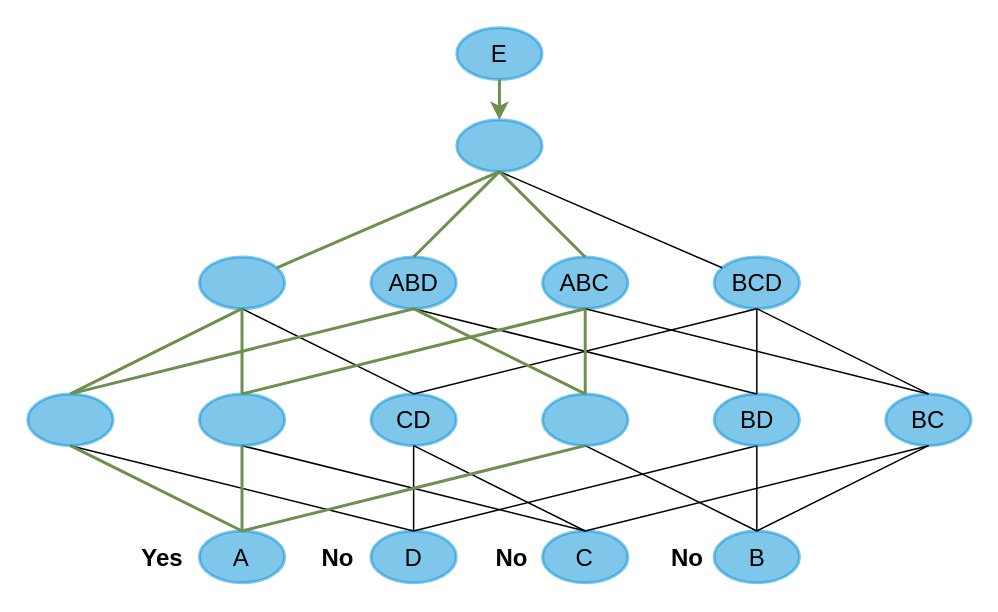
This 998x612 diagram has some shape labels left out. The shapes that lost their labels are listed below. From the top down, each one's box as (x1, y1, x2, y2) in pixels, then its label:
(454, 118, 543, 172): ABCD
(197, 255, 285, 309): ACD
(26, 392, 114, 446): AD
(197, 392, 285, 446): AC
(540, 392, 629, 446): AB
